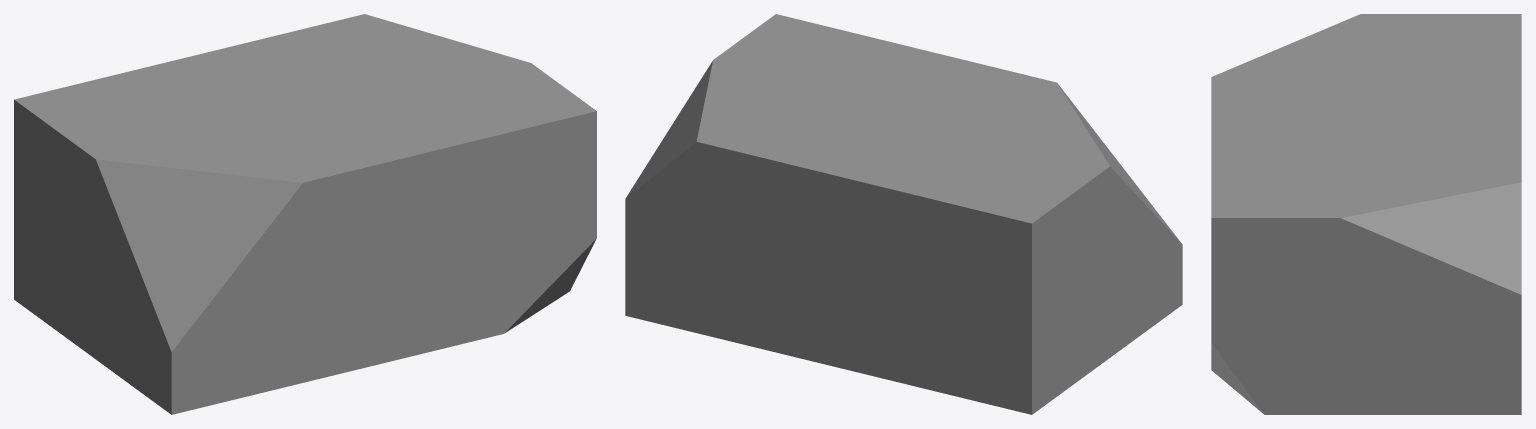
File: Brick_01.fbx
The picture shows the model from 3 angles, left to right: view 1: azimuth 30°, elevation 25°; view 2: azimuth 150°, elevation 25°; view 3: azimuth 270°, elevation 25°; orthographic projection. The views are drawn at different scales.
Visible parts, largest first — view 1: Brick_01; view 2: Brick_01; view 3: Brick_01.
Boxes of the visible parts, x1,y1,x2,y2 form: Brick_01: (14,14,596,414); Brick_01: (625,14,1182,414); Brick_01: (1211,14,1521,414).
Bounding box in the file's own units: 138 × 61.93 × 88.42.
